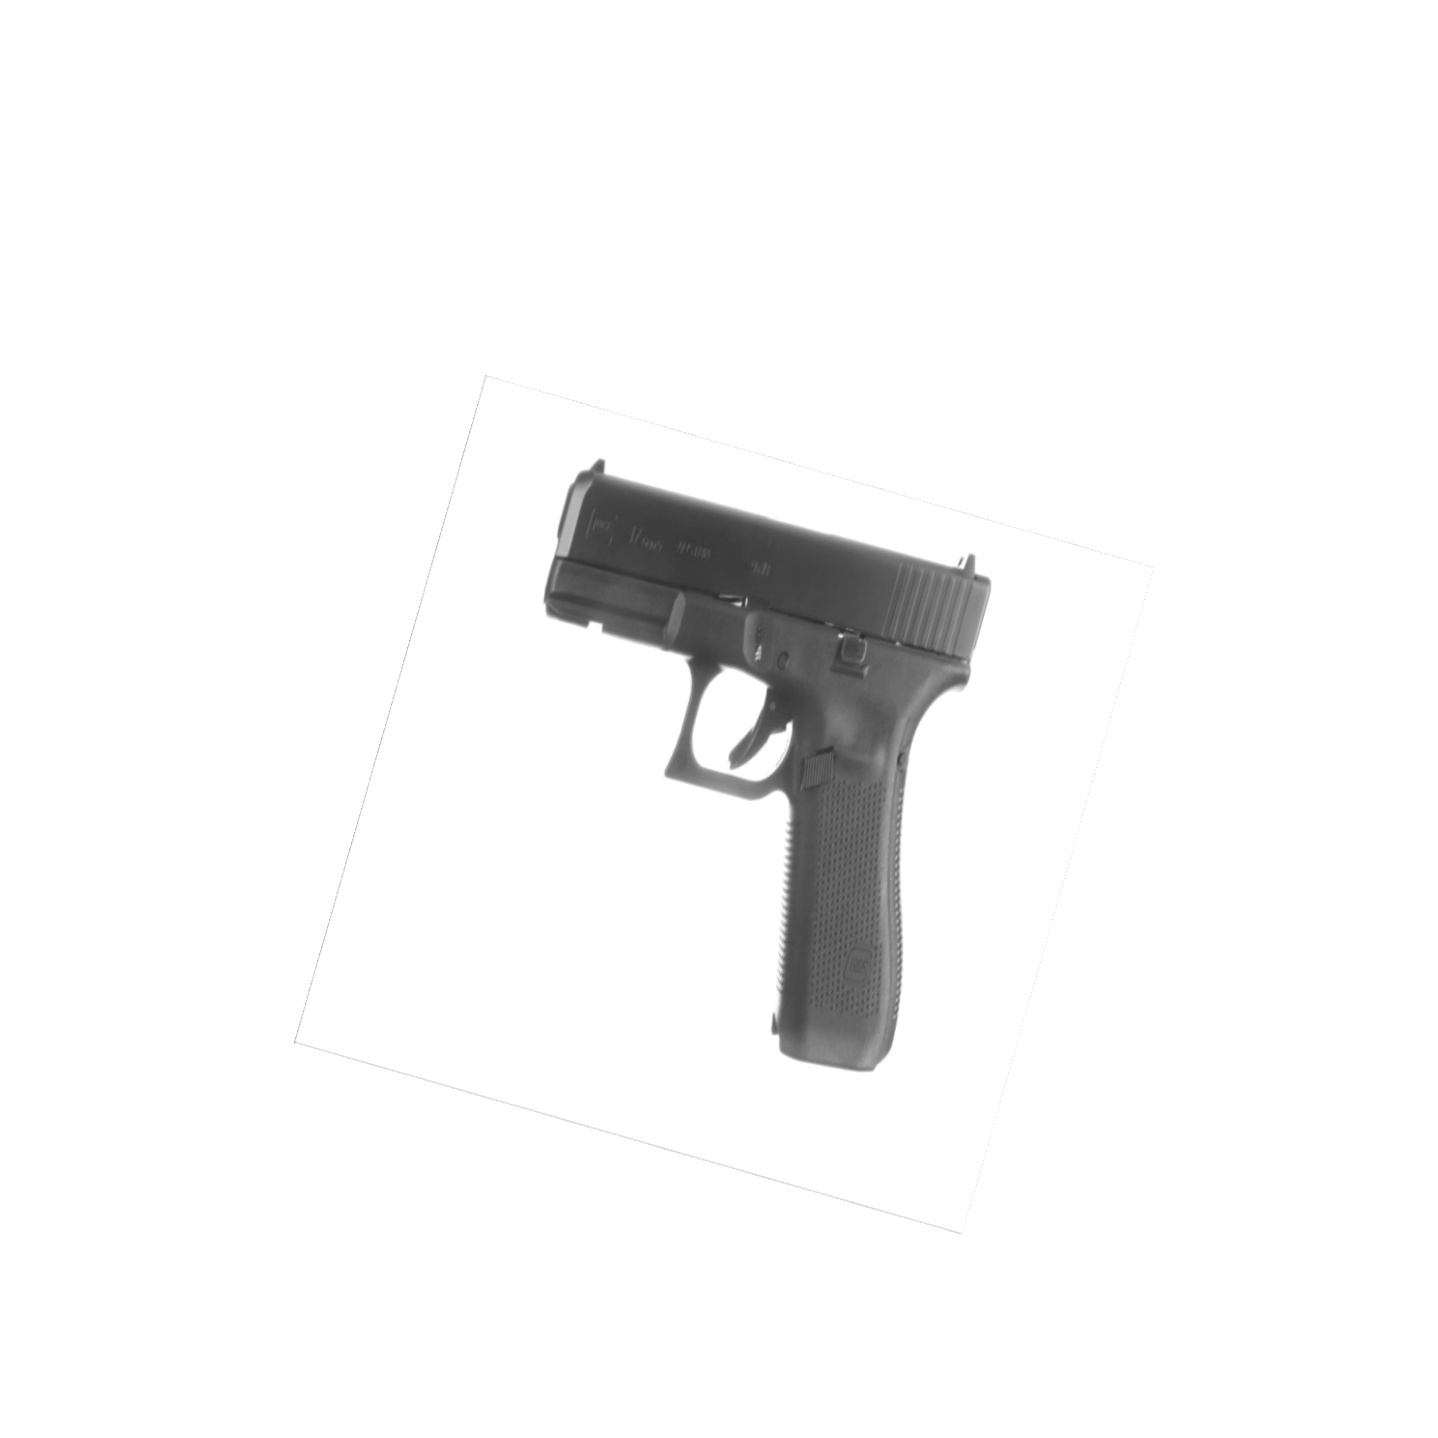gun: (525, 444, 1002, 1086)
